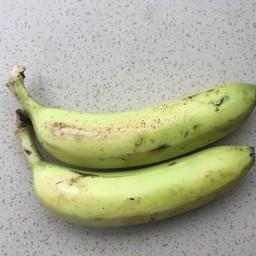Good_banana: (3, 71, 256, 159), (3, 153, 256, 229)
